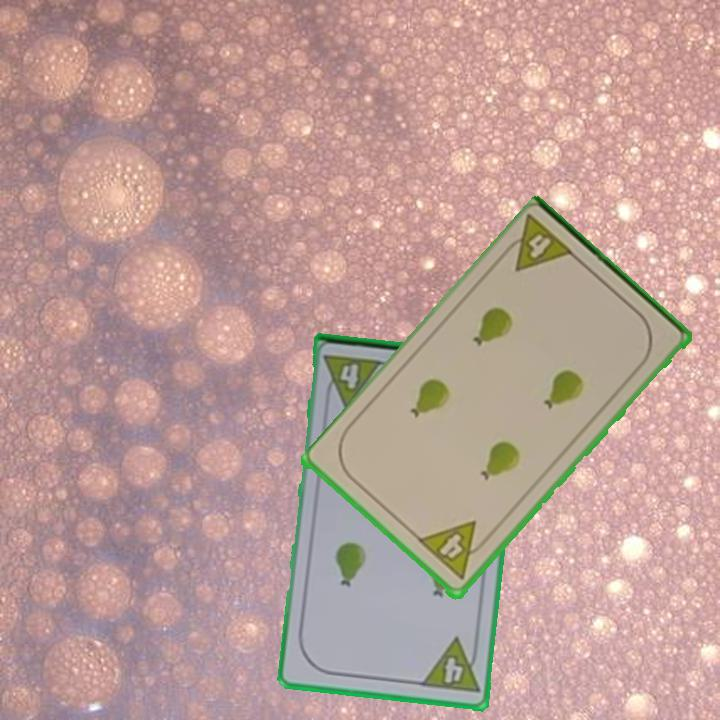4p: (496, 212, 578, 276), (415, 518, 493, 584), (417, 634, 482, 696), (320, 351, 386, 410)
